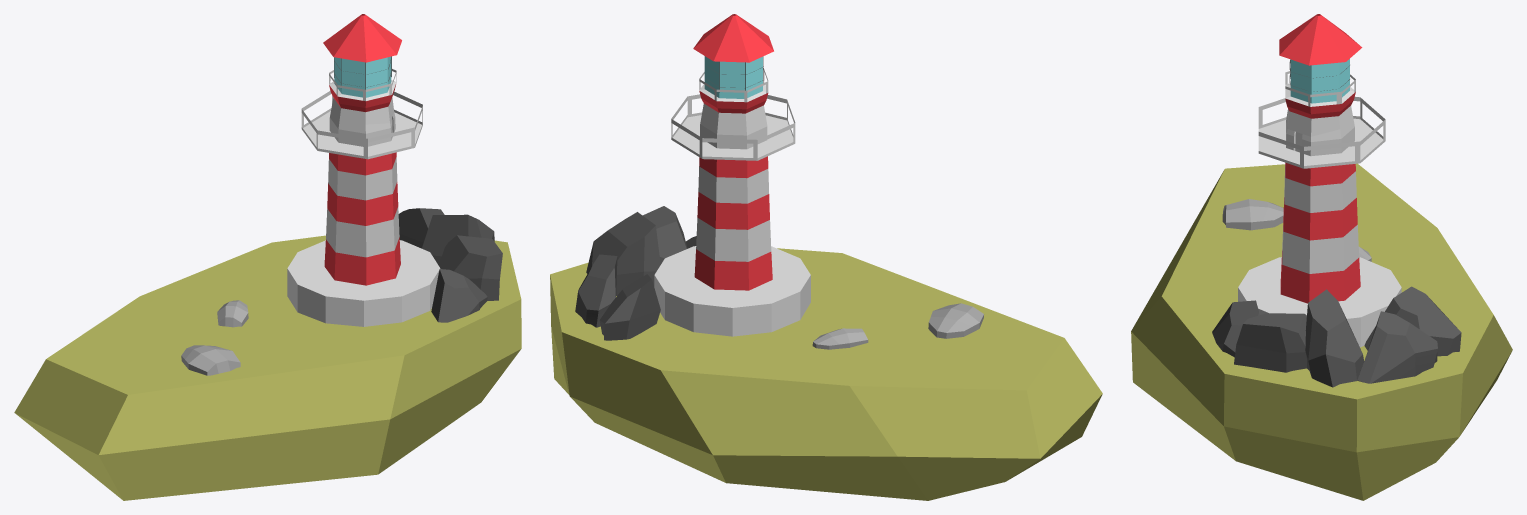
File: faro.glb
3 views of the same model, side by side, from view 1: azimuth 30°, elevation 25°; view 2: azimuth 150°, elevation 25°; view 3: azimuth 270°, elevation 25° (orthographic). The views are drawn at different scales.
Parts seen in each view (by area): view 1: arena, faro, playtaforma, piedras, piedra; view 2: arena, faro, piedras, playtaforma, piedra; view 3: arena, faro, piedras, playtaforma, piedra.
Boxes of the visible parts, <box> form: arena: <box>14,235,521,500</box>; faro: <box>301,14,422,285</box>; playtaforma: <box>287,240,440,326</box>; piedras: <box>398,208,502,322</box>; piedra: <box>181,300,248,375</box>; arena: <box>550,248,1102,500</box>; faro: <box>671,14,795,290</box>; piedras: <box>575,206,696,340</box>; playtaforma: <box>654,246,810,336</box>; piedra: <box>812,303,983,349</box>; arena: <box>1131,163,1512,500</box>; faro: <box>1258,14,1385,303</box>; piedras: <box>1212,286,1461,387</box>; playtaforma: <box>1238,257,1401,347</box>; piedra: <box>1222,199,1371,261</box>.
Bounding box in the file's own units: 54.37 × 40.43 × 34.55.
5 materials, 1 textured.
